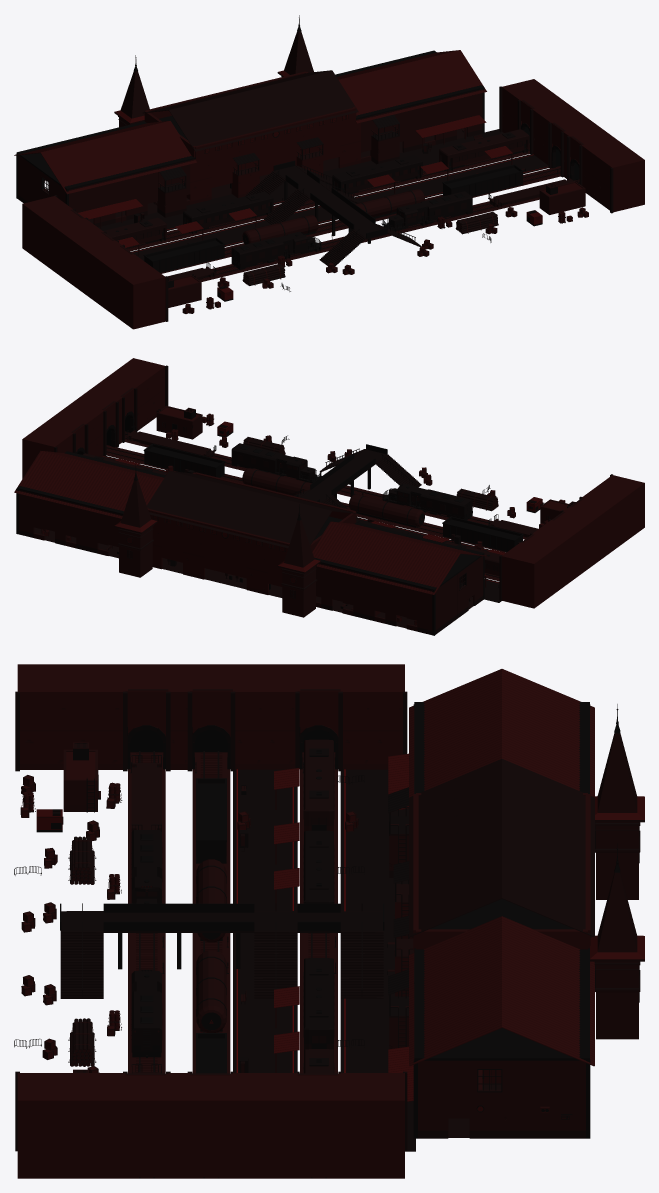
File: estacao.glb
3 renders of one model, top to bottom at view 1: azimuth 30°, elevation 25°; view 2: azimuth 150°, elevation 25°; view 3: azimuth 270°, elevation 25°, orthographic. The views are drawn at different scales.
Parts seen in each view (by area): view 1: parede_47, concreto_2, escuro_237, concreto_1, Train_01_C2_325, Train_01_C2_326, Train_02_C1_319, Train_02_C2_318, Train_02_C2_317, concreto_579, TrainPart_06_320, parede_53 (+59 smaller); view 2: parede_47, parede_45, Building_07_286, Building_07_282, escuro_237, Train_01_C2_326, Train_01_C2_325, TrainPart_06_320, TrainPart_06_323, piso_0, TrainPart_04_321, parede_278 (+56 smaller); view 3: parede_48, concreto_2, concreto_1, escuro_237, parede_46, Building_07_286, Building_07_282, concreto_579, Wall_01_103, brita_32, Wall_01_102, brita_19 (+87 smaller).
Boxes of the visible parts, bbox=[...] form: parede_47: bbox=[41, 215, 143, 329]; concreto_2: bbox=[131, 154, 548, 260]; escuro_237: bbox=[16, 50, 484, 190]; concreto_1: bbox=[98, 129, 503, 230]; Train_01_C2_325: bbox=[231, 231, 321, 269]; Train_01_C2_326: bbox=[382, 191, 472, 231]; Train_02_C1_319: bbox=[439, 129, 529, 171]; Train_02_C2_318: bbox=[332, 155, 422, 194]; Train_02_C2_317: bbox=[183, 191, 273, 233]; concreto_579: bbox=[274, 166, 387, 239]; TrainPart_06_320: bbox=[143, 237, 225, 272]; parede_53: bbox=[113, 254, 165, 326]; parede_47: bbox=[542, 480, 644, 594]; parede_45: bbox=[502, 543, 552, 608]; Building_07_286: bbox=[114, 464, 157, 577]; Building_07_282: bbox=[277, 504, 320, 617]; escuro_237: bbox=[16, 451, 484, 590]; Train_01_C2_326: bbox=[231, 443, 321, 483]; Train_01_C2_325: bbox=[382, 483, 472, 519]; TrainPart_06_320: bbox=[442, 516, 523, 551]; TrainPart_06_323: bbox=[143, 443, 225, 477]; piso_0: bbox=[34, 527, 473, 628]; TrainPart_04_321: bbox=[349, 494, 424, 527]; parede_278: bbox=[147, 508, 289, 554]; parede_48: bbox=[17, 1091, 340, 1178]; concreto_2: bbox=[233, 769, 297, 1072]; concreto_1: bbox=[340, 769, 415, 1151]; escuro_237: bbox=[414, 702, 589, 1060]; parede_46: bbox=[340, 1073, 404, 1178]; Building_07_286: bbox=[590, 843, 644, 1039]; Building_07_282: bbox=[592, 704, 644, 899]; concreto_579: bbox=[61, 912, 382, 932]; Wall_01_103: bbox=[17, 691, 71, 769]; brita_32: bbox=[128, 752, 165, 1073]; Wall_01_102: bbox=[71, 691, 124, 769]; brita_19: bbox=[192, 752, 230, 1073].
Size of the model in its own units: 120 by 24.03 by 73.29.
1 material, 1 textured.
